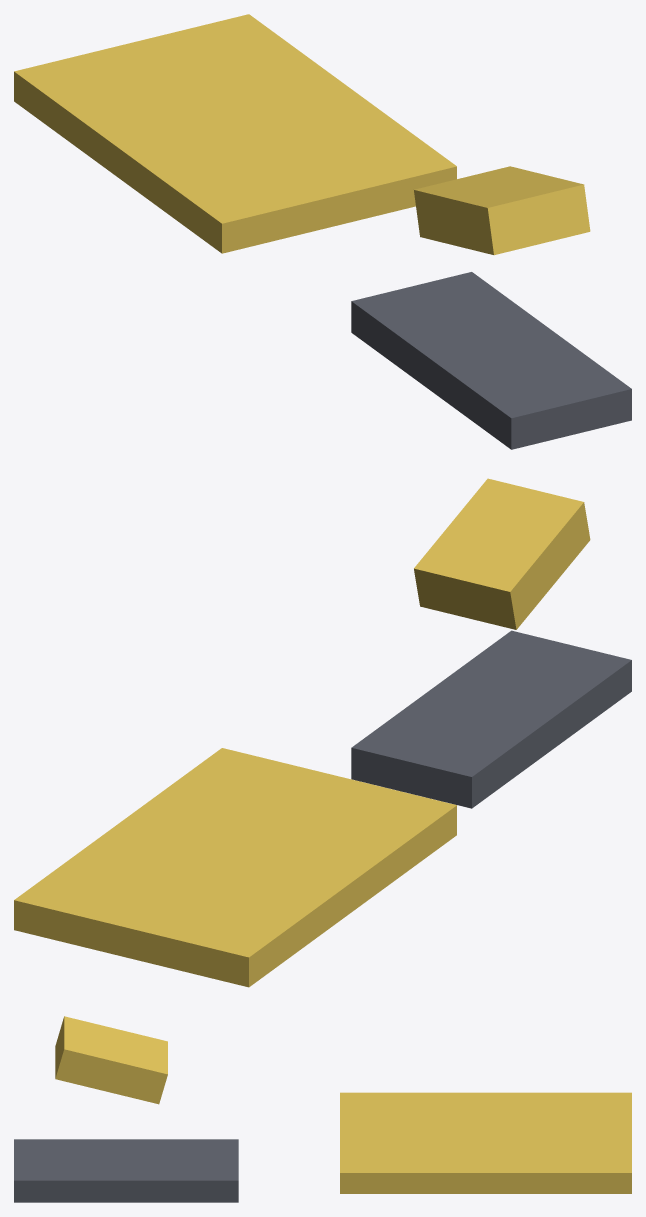
File: CO_MonsoonArtillery_LOD0.glb
3 views of the same model, one above another, from view 1: azimuth 30°, elevation 25°; view 2: azimuth 150°, elevation 25°; view 3: azimuth 270°, elevation 25° (orthographic). The views are drawn at different scales.
Visible parts, largest first — view 1: Cube.001, Cube, Cube.002; view 2: Cube.001, Cube, Cube.002; view 3: Cube.001, Cube, Cube.002.
Part boxes in pixels (x1,y1,x2,y2): Cube.001: (14, 14, 456, 253); Cube: (351, 272, 631, 449); Cube.002: (414, 166, 590, 255); Cube.001: (14, 748, 456, 987); Cube: (351, 630, 631, 808); Cube.002: (414, 478, 590, 629); Cube.001: (340, 1092, 631, 1193); Cube: (14, 1139, 238, 1202); Cube.002: (55, 1016, 167, 1104).
Size of the model in its own units: 3.9 by 3.37 by 12.65.
